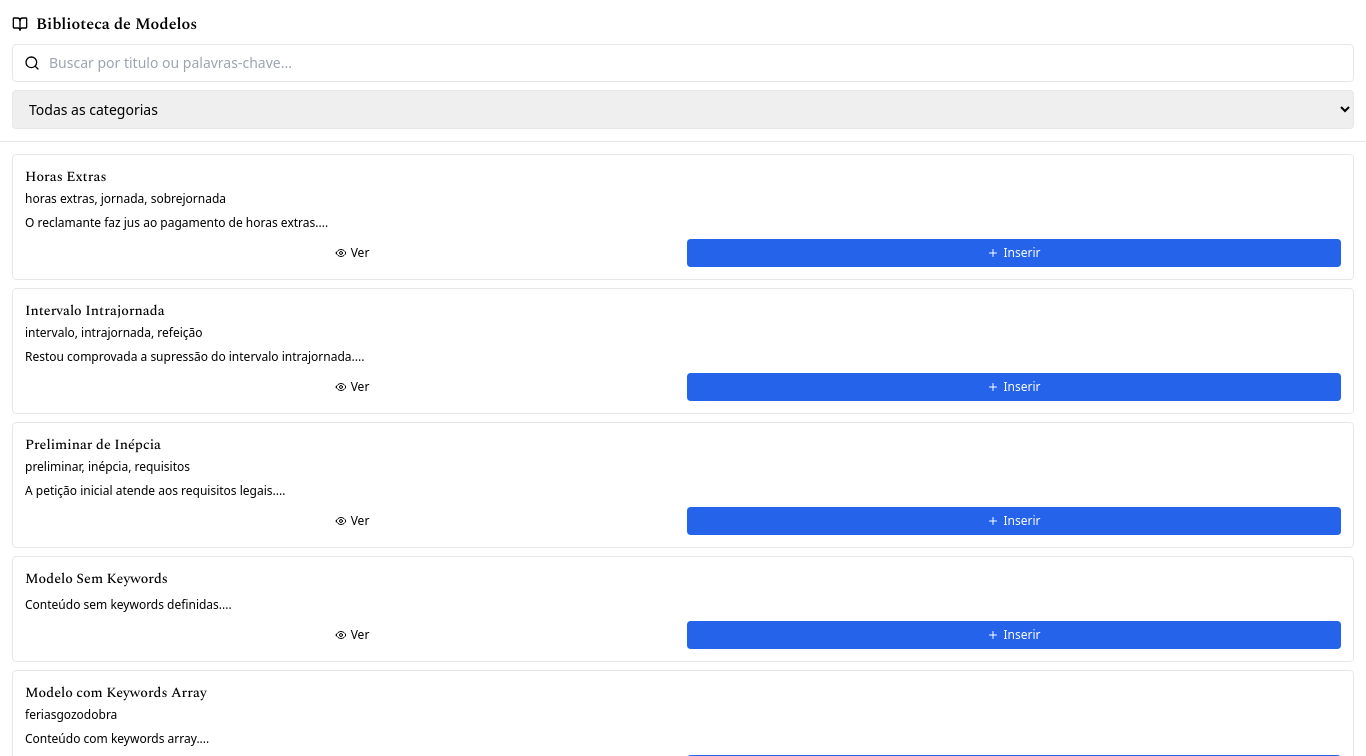
Test: ModelSearchPanel › Search › should filter models by title
This screenshot has width=1366, height=756.
Type "Horas" into the field with placeholder "Buscar por titulo ou palavras-chave..." at (683, 63), box [12,44,1354,82]
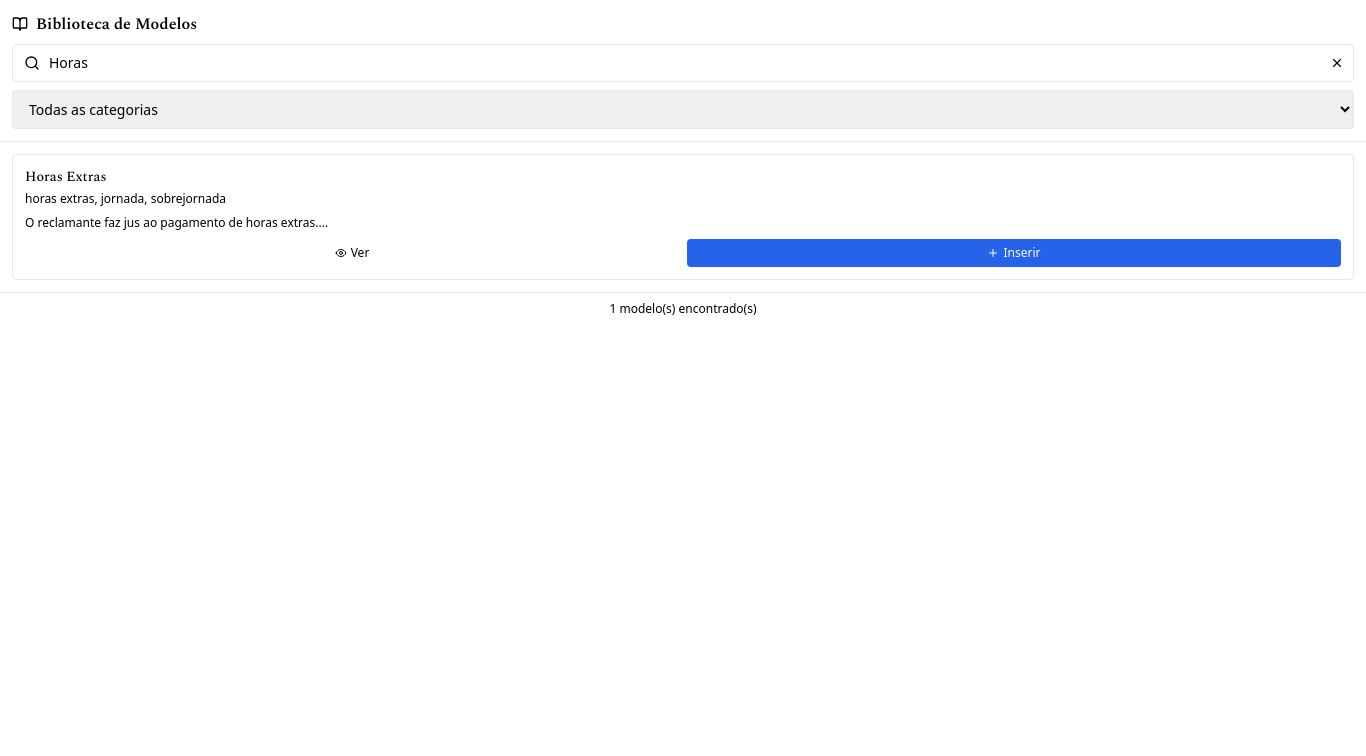
Expected: the heading "Horas Extras" is shown, [25,166,107,187]
Now the heading "Intervalo Intrajornada" is gone
Now the heading "Preliminar de Inépcia" is gone
